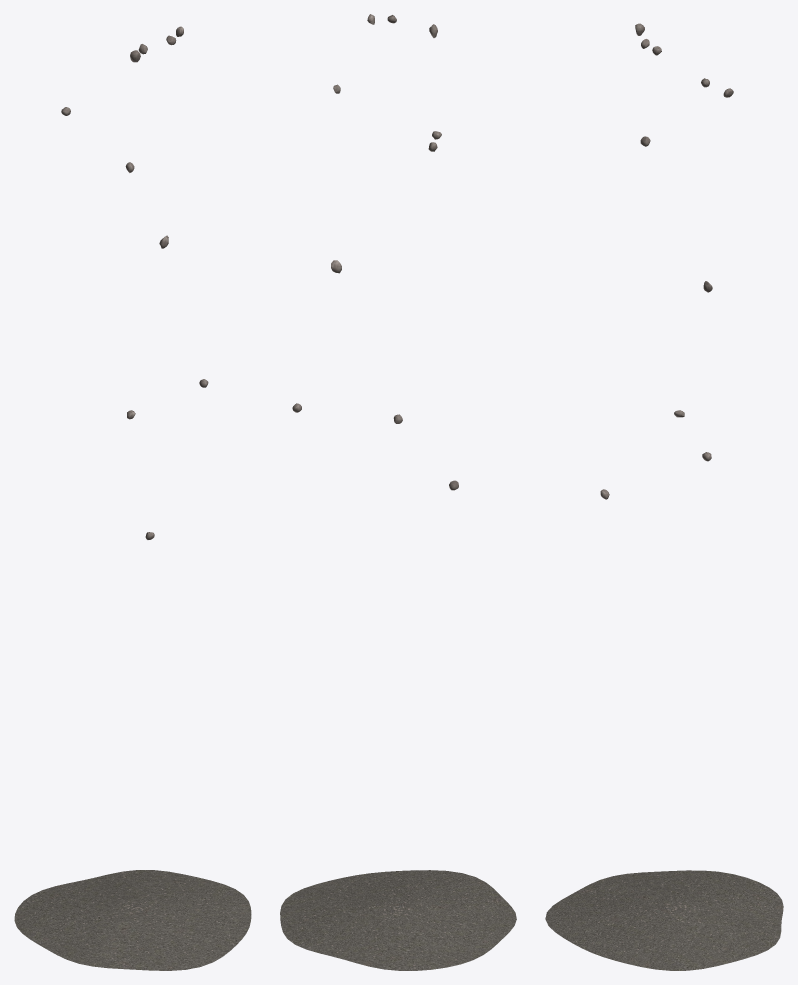
The model's file is ALV-AGR-004_anim.glb.
3 renders of one model, left to right at view 1: azimuth 30°, elevation 25°; view 2: azimuth 150°, elevation 25°; view 3: azimuth 270°, elevation 25°, orthographic.
Visible parts, largest first — view 1: ALV-AGR-004_anim_monte; view 2: ALV-AGR-004_anim_monte; view 3: ALV-AGR-004_anim_monte.
Part boxes in pixels (box(x1,y1,x2,y2)): ALV-AGR-004_anim_monte: box(14, 870, 251, 970); ALV-AGR-004_anim_monte: box(280, 870, 516, 970); ALV-AGR-004_anim_monte: box(545, 870, 783, 970).
Bounding box in the file's own units: 0.2495 × 1.03 × 0.25.
Materials: 2 (2 with a texture image).
